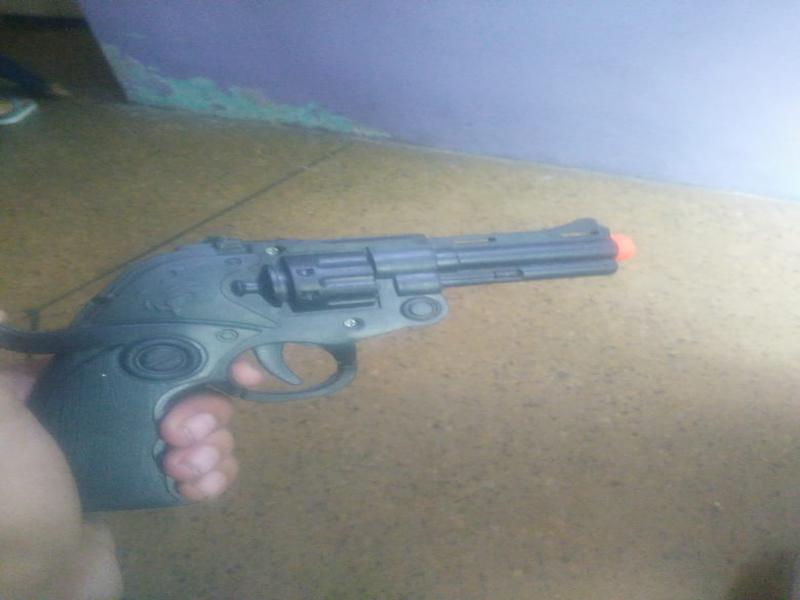gun: (38, 206, 672, 516)
